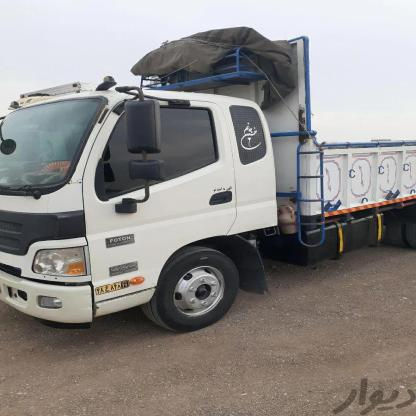Truck: (0, 68, 416, 320)
